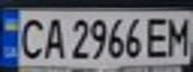2: (66, 15, 90, 61)
6: (124, 15, 148, 60), (106, 15, 127, 61)
9: (87, 15, 109, 61)
A: (39, 15, 69, 61)
C: (12, 15, 48, 61)
E: (142, 13, 175, 60)
M: (163, 14, 193, 57)
